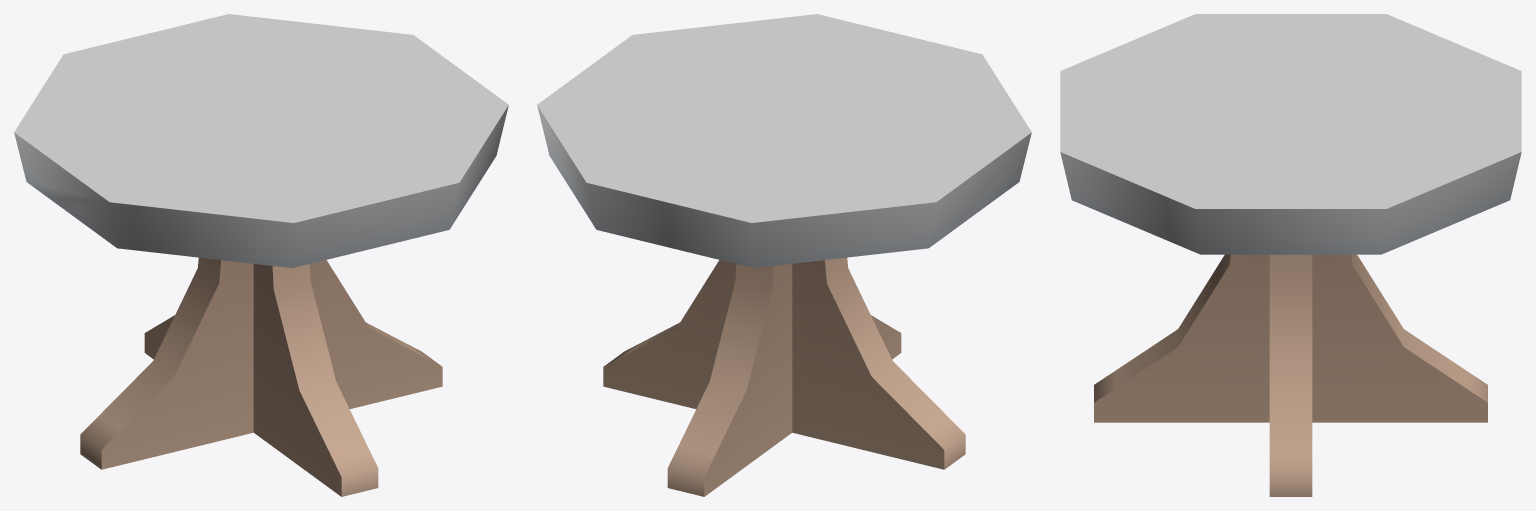
The model's file is table-side-detailed-a.glb.
3 views of the same model, side by side, from view 1: azimuth 30°, elevation 25°; view 2: azimuth 150°, elevation 25°; view 3: azimuth 270°, elevation 25° (orthographic).
Visible parts, largest first — view 1: table-side-detailed-a; view 2: table-side-detailed-a; view 3: table-side-detailed-a.
Part boxes in pixels (x1,y1,x2,y2): table-side-detailed-a: [14, 14, 508, 496]; table-side-detailed-a: [537, 14, 1031, 496]; table-side-detailed-a: [1060, 14, 1521, 496].
Size of the model in its own units: 0.4153 by 0.3 by 0.4153.
